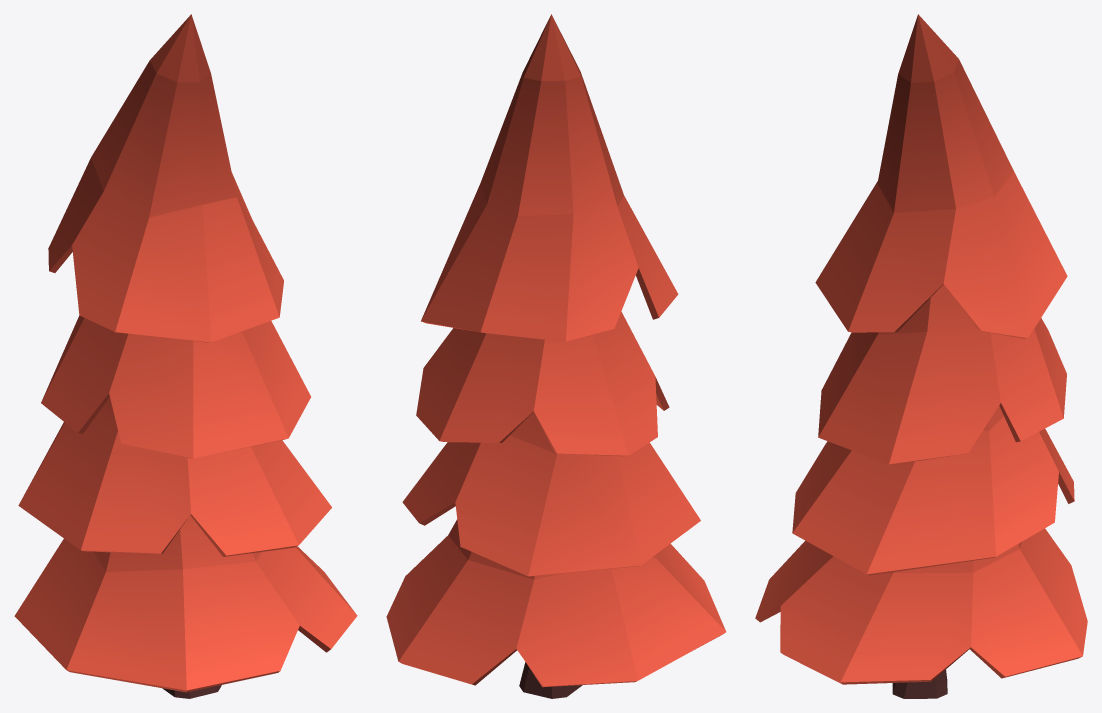
Rendered from RedPine6.fbx.
The picture shows the model from 3 angles, left to right: view 1: azimuth 30°, elevation 25°; view 2: azimuth 150°, elevation 25°; view 3: azimuth 270°, elevation 25°; orthographic projection.
Parts seen in each view (by area): view 1: RedPine6; view 2: RedPine6; view 3: RedPine6.
Boxes of the visible parts, x1,y1,x2,y2 form: RedPine6: [14, 14, 357, 698]; RedPine6: [386, 14, 726, 698]; RedPine6: [755, 14, 1087, 698].
Size of the model in its own units: 499 by 1107 by 495.
